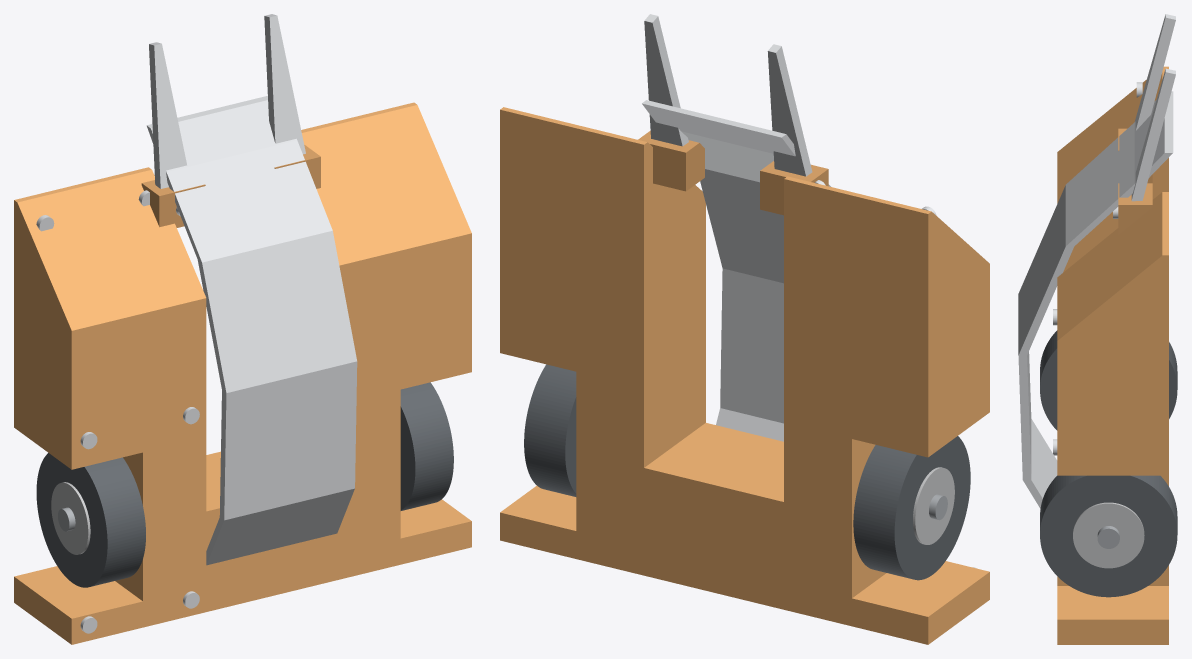
File: shoveron.glb
3 renders of one model, left to right at view 1: azimuth 30°, elevation 25°; view 2: azimuth 150°, elevation 25°; view 3: azimuth 270°, elevation 25°, orthographic. The views are drawn at different scales.
Parts seen in each view (by area): view 1: pod_r, shovel, pod_l, wheel_r0, bridge, wheel_l0, fork_0, fork_1, dt_hub_wheel_r0, dt_mount_fork_0; view 2: pod_r, pod_l, shovel, bridge, wheel_r0, wheel_l0, fork_0, fork_1, dt_mount_fork_1, dt_hub_wheel_r0, dt_mount_fork_0; view 3: pod_l, shovel, wheel_l0, pod_r, dt_hub_wheel_l0, wheel_r0, fork_1, fork_0, dt_mount_fork_1, dt_nut_wheel_l0.
Boxes of the visible parts, x1=… form: pod_r: x1=14, y1=167, x2=206, y2=644; shovel: x1=146, y1=95, x2=357, y2=565; pod_l: x1=301, y1=102, x2=471, y2=579; wheel_r0: x1=36, y1=453, x2=145, y2=587; bridge: x1=206, y1=451, x2=337, y2=611; wheel_l0: x1=400, y1=382, x2=453, y2=510; fork_0: x1=149, y1=42, x2=186, y2=188; fork_1: x1=264, y1=14, x2=305, y2=154; dt_hub_wheel_r0: x1=51, y1=482, x2=90, y2=554; dt_mount_fork_0: x1=141, y1=180, x2=205, y2=227; pod_r: x1=784, y1=176, x2=989, y2=644; pod_l: x1=500, y1=107, x2=705, y2=575; shovel: x1=642, y1=100, x2=830, y2=441; bridge: x1=643, y1=423, x2=783, y2=609; wheel_r0: x1=853, y1=436, x2=970, y2=580; wheel_l0: x1=524, y1=364, x2=576, y2=496; fork_0: x1=767, y1=44, x2=812, y2=176; fork_1: x1=644, y1=14, x2=688, y2=146; dt_mount_fork_1: x1=638, y1=130, x2=704, y2=191; dt_hub_wheel_r0: x1=913, y1=467, x2=954, y2=544; dt_mount_fork_0: x1=760, y1=161, x2=828, y2=215; pod_l: x1=1057, y1=192, x2=1168, y2=644; shovel: x1=1018, y1=91, x2=1173, y2=508; wheel_l0: x1=1040, y1=475, x2=1177, y2=597; pod_r: x1=1057, y1=66, x2=1168, y2=272; dt_hub_wheel_l0: x1=1073, y1=502, x2=1144, y2=568; wheel_r0: x1=1040, y1=330, x2=1177, y2=430; fork_1: x1=1131, y1=68, x2=1175, y2=201; fork_0: x1=1134, y1=14, x2=1175, y2=130; dt_mount_fork_1: x1=1118, y1=183, x2=1152, y2=234; dt_nut_wheel_l0: x1=1097, y1=526, x2=1119, y2=548.
Bounding box in the file's own units: 104 × 130 × 37.
